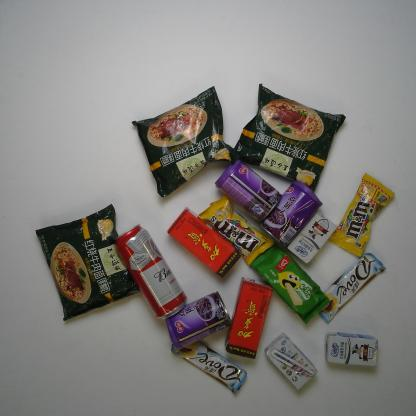Alcohol: (112, 223, 188, 322)
Canned Food: (258, 180, 324, 247), (214, 159, 282, 222), (165, 290, 233, 350)
Chocolate: (327, 172, 396, 258), (196, 194, 275, 267), (316, 252, 386, 325), (171, 335, 248, 395)
Dessert: (249, 242, 331, 324)
Drink: (167, 206, 241, 278), (225, 277, 273, 359)
Instant Noodles: (34, 202, 141, 322), (231, 82, 346, 193), (130, 85, 237, 198)
Milk: (264, 331, 318, 391), (286, 208, 338, 265), (324, 331, 378, 368)
